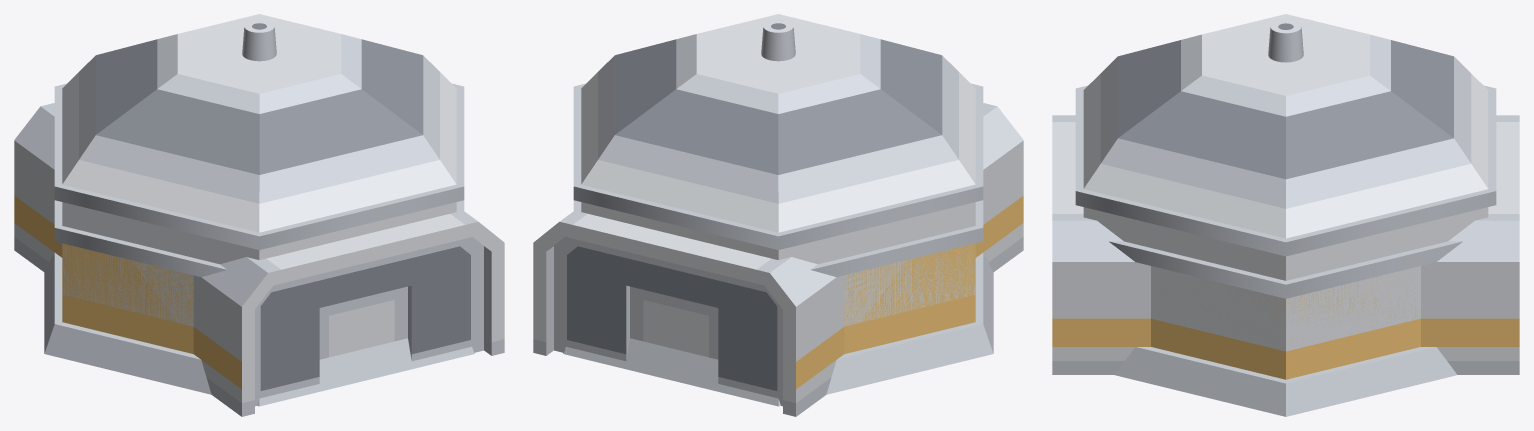
The model's file is space-kit.glb.
3 views of the same model, side by side, from view 1: azimuth 30°, elevation 25°; view 2: azimuth 150°, elevation 25°; view 3: azimuth 270°, elevation 25° (orthographic). The views are drawn at different scales.
Visible parts, largest first — view 1: hangar_roundB, gate.001, Mesh hangar_largeA, Mesh hangar_largeB, hangar_roundGlass, hangar_roundA, chimney_detailed; view 2: hangar_roundB, gate, Mesh hangar_largeB, Mesh hangar_largeA, hangar_roundGlass, hangar_roundA, chimney_detailed; view 3: hangar_roundB, Mesh hangar_largeB, hangar_roundA, Mesh hangar_largeA, hangar_roundGlass, chimney_detailed.
Boxes of the visible parts, x1,y1,x2,y2 form: hangar_roundB: (54, 14, 464, 351); gate.001: (255, 237, 483, 406); Mesh hangar_largeA: (14, 140, 504, 416); Mesh hangar_largeB: (14, 103, 504, 416); hangar_roundGlass: (44, 253, 474, 406); hangar_roundA: (54, 200, 464, 353); chimney_detailed: (242, 24, 276, 61); hangar_roundB: (573, 14, 983, 351); gate: (554, 237, 782, 406); Mesh hangar_largeB: (533, 103, 1023, 415); Mesh hangar_largeA: (533, 140, 1023, 416); hangar_roundGlass: (563, 253, 993, 406); hangar_roundA: (573, 200, 983, 353); chimney_detailed: (761, 24, 795, 61); hangar_roundB: (1075, 14, 1496, 376); Mesh hangar_largeB: (1052, 115, 1519, 374); hangar_roundA: (1109, 241, 1462, 379); Mesh hangar_largeA: (1052, 262, 1519, 374); hangar_roundGlass: (1115, 322, 1456, 416); chimney_detailed: (1268, 24, 1303, 62).
Bounding box in the file's own units: 3.27 × 2.1 × 3.
